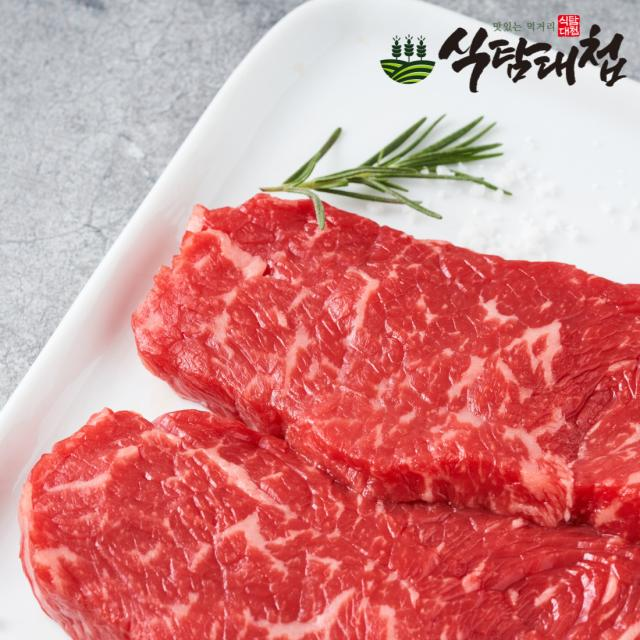beef: (213, 279, 559, 588)
